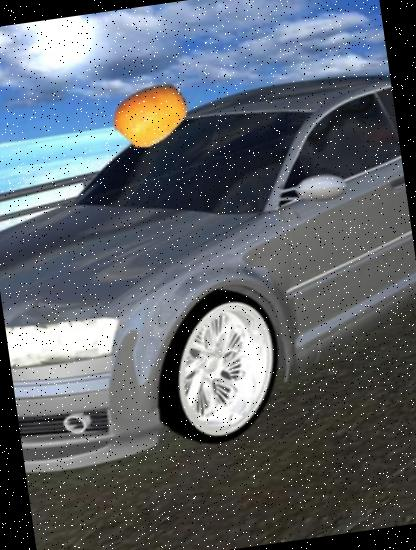Kumquats: (108, 72, 193, 158)
